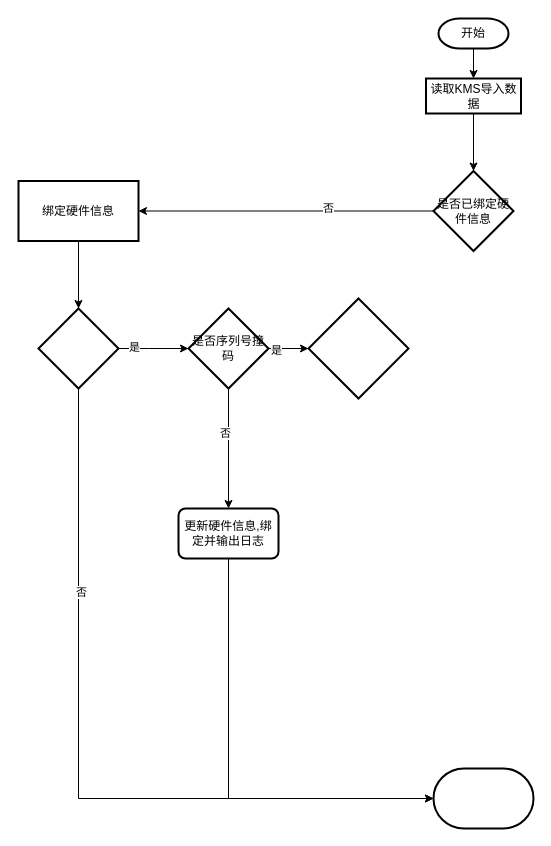
This 551x846 diagram has some shape labels left out. Each missing label, with the centre of its shape:
"是否同产线" goes at (358,348).
"是否撞码" goes at (78,348).
"结束" goes at (483,798).
